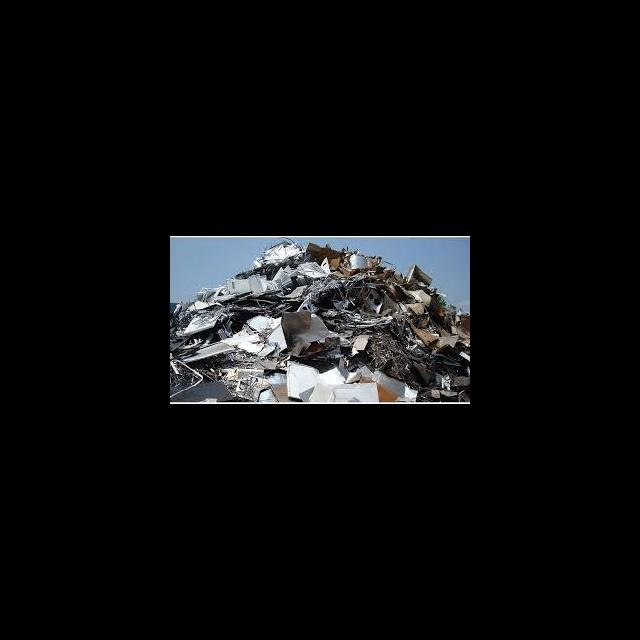metal: (273, 304, 321, 359), (240, 308, 287, 360), (300, 377, 385, 403), (281, 357, 326, 403), (404, 317, 460, 353), (175, 310, 227, 335), (401, 260, 434, 294), (343, 328, 374, 357), (383, 307, 411, 338), (362, 285, 387, 317), (450, 312, 469, 349), (346, 251, 375, 274), (407, 284, 434, 307), (401, 296, 427, 318)
